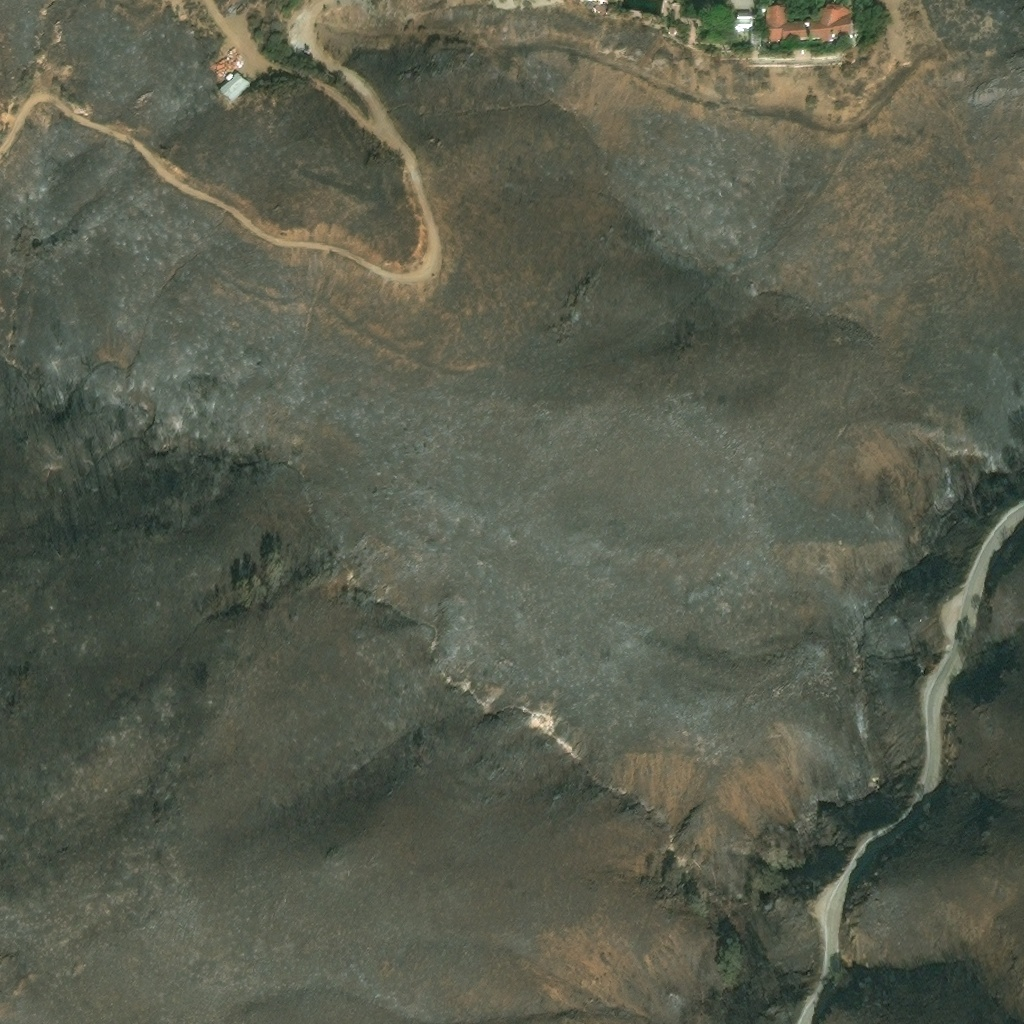0 no-damage: (764, 4, 853, 47), (216, 72, 251, 104), (623, 0, 663, 16), (731, 14, 756, 31)
4 un-classified: (586, 0, 606, 6)
